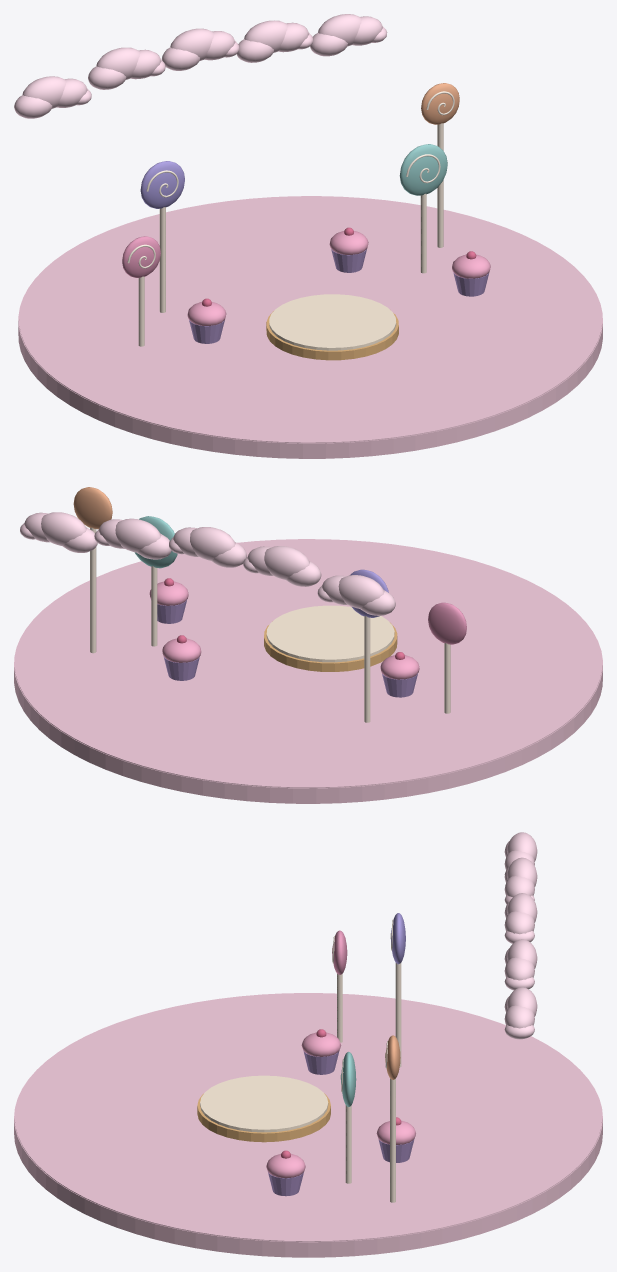
File: doceria.glb
3 renders of one model, top to bottom at view 1: azimuth 30°, elevation 25°; view 2: azimuth 150°, elevation 25°; view 3: azimuth 270°, elevation 25°, orthographic.
Parts seen in each view (by area): view 1: Diorama piping.015, Diorama base.015, Look pedestal.015, Candy disk.002, Candy disk.001, Look pedestal trim.015, Candy disk.003, Candy disk, Puffy cloud.089, Puffy cloud.093, Puffy cloud.101, Puffy cloud.105 (+16 smaller); view 2: Diorama piping.015, Diorama base.015, Look pedestal.015, Look pedestal trim.015, Candy disk, Candy disk.003, Puffy cloud.093, Puffy cloud.101, Puffy cloud.105, Puffy cloud.089, Puffy cloud.097, Frosting (+20 smaller); view 3: Diorama piping.015, Diorama base.015, Look pedestal.015, Look pedestal trim.015, Frosting, Frosting.001, Candy stick.003, Candy disk.002, Frosting.002, Candy disk.001, Candy stick.001, Puffy cloud.098 (+4 smaller).
Part boxes in pixels (x1,y1,x2,y2): Diorama piping.015: (19, 196, 602, 443); Diorama base.015: (18, 276, 602, 458); Look pedestal.015: (269, 294, 396, 350); Candy disk.002: (399, 144, 447, 195); Candy disk.001: (140, 161, 184, 208); Look pedestal trim.015: (266, 311, 398, 360); Candy disk.003: (421, 83, 459, 124); Candy disk: (122, 236, 160, 277); Puffy cloud.089: (22, 76, 66, 108); Puffy cloud.093: (96, 47, 140, 79); Puffy cloud.101: (244, 20, 287, 52); Puffy cloud.105: (318, 14, 361, 46); Diorama piping.015: (14, 539, 602, 788); Diorama base.015: (14, 628, 602, 803); Look pedestal.015: (266, 605, 394, 662); Look pedestal trim.015: (264, 621, 397, 671); Candy disk: (428, 602, 466, 644); Candy disk.003: (73, 487, 112, 529); Puffy cloud.093: (264, 546, 309, 579); Puffy cloud.101: (115, 518, 161, 552); Puffy cloud.105: (41, 512, 86, 546); Puffy cloud.089: (338, 575, 384, 608); Puffy cloud.097: (190, 527, 235, 560); Frosting: (380, 655, 419, 679); Diorama piping.015: (14, 993, 602, 1241); Diorama base.015: (14, 1079, 602, 1257); Look pedestal.015: (200, 1075, 328, 1132); Look pedestal trim.015: (197, 1093, 330, 1142); Frosting: (301, 1032, 341, 1056); Frosting.001: (266, 1154, 305, 1178); Candy stick.003: (390, 1078, 395, 1202); Candy disk.002: (341, 1051, 356, 1106); Frosting.002: (376, 1120, 415, 1144); Candy disk.001: (391, 913, 405, 964); Candy stick.001: (395, 963, 401, 1067); Puffy cloud.098: (504, 911, 534, 934).
Size of what is drawn, in the model's own units: 8.64 by 3.75 by 8.64.
